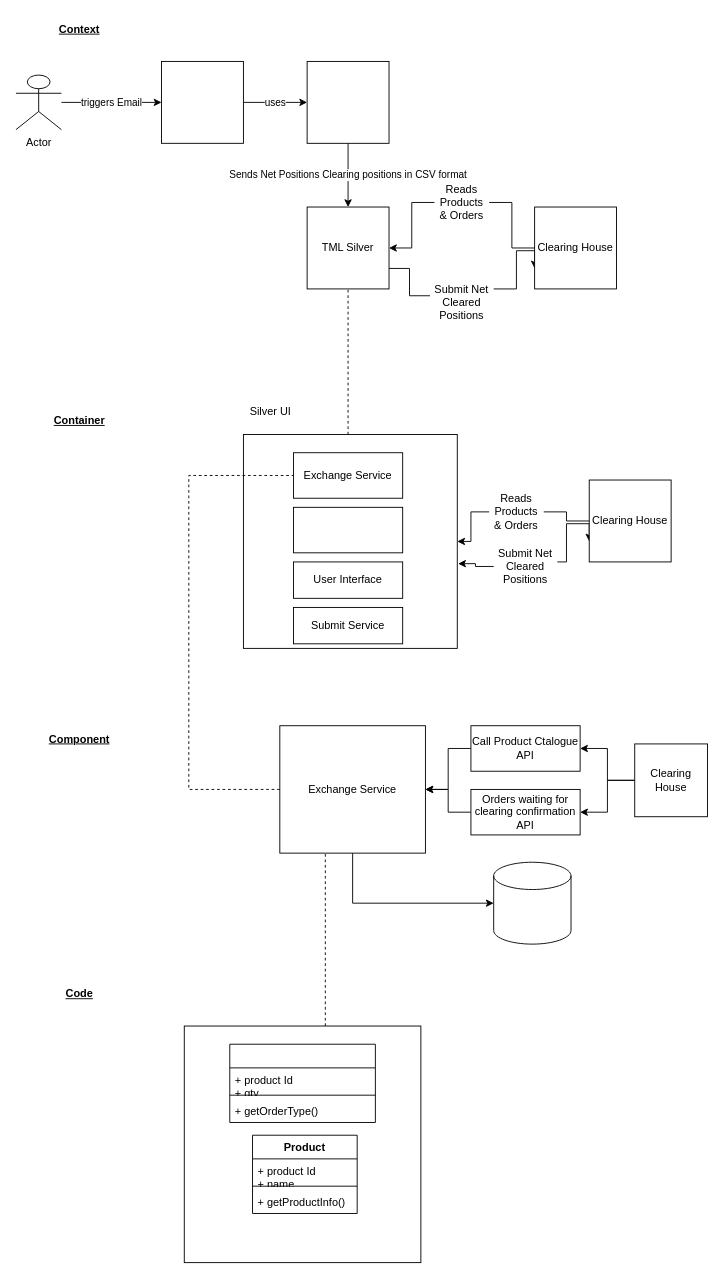
This 723x1279 diagram has some shape labels left out. Each missing label, with the box of its shape:
Email System: (306, 61, 389, 143)
GMI: (161, 61, 243, 143)
Order Line: (229, 1043, 375, 1122)
Recon Service: (293, 506, 403, 553)
TML DB: (493, 861, 571, 944)
